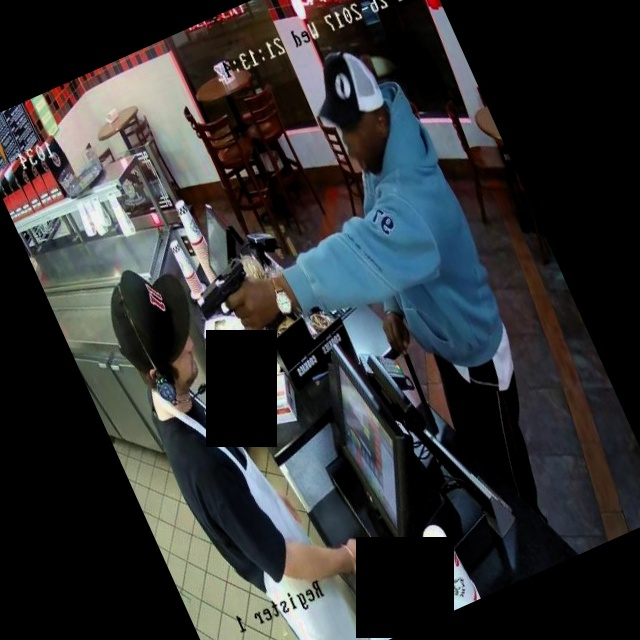gun: (174, 237, 279, 348)
